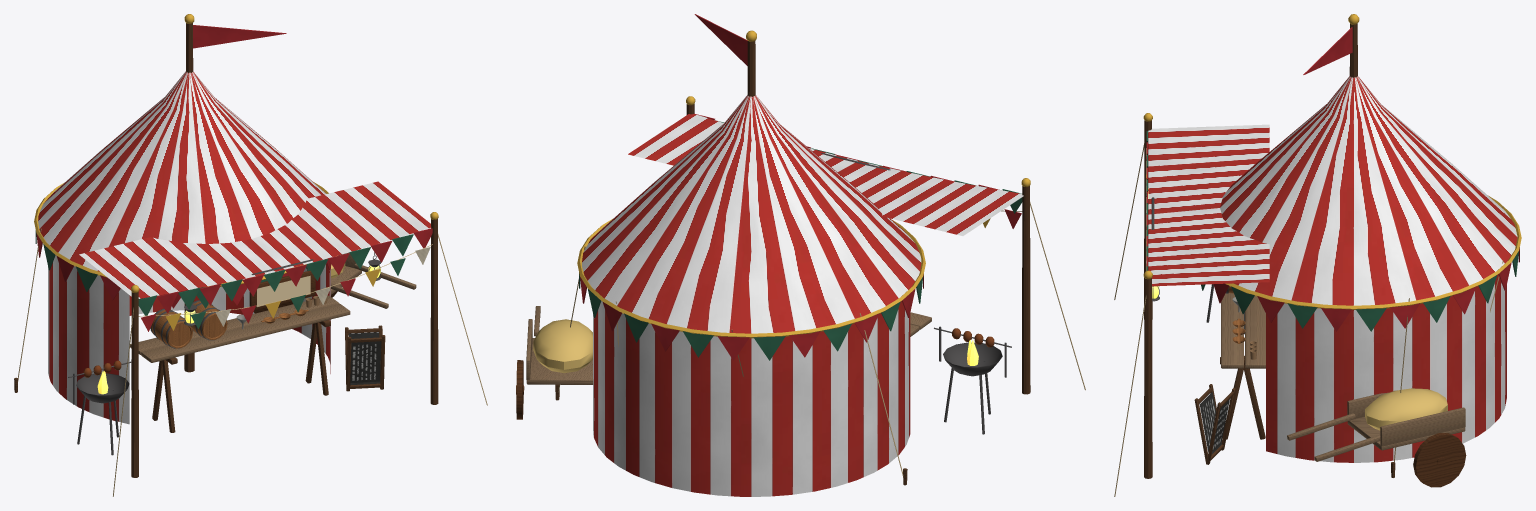
The model's file is tavern-tent.glb.
The picture shows the model from 3 angles, left to right: view 1: azimuth 30°, elevation 25°; view 2: azimuth 150°, elevation 25°; view 3: azimuth 270°, elevation 25°; orthographic projection. The views are drawn at different scales.
Parts seen in each view (by area): view 1: tavern_tent, sign_face; view 2: tavern_tent; view 3: tavern_tent.
Boxes of the visible parts, x1,y1,x2,y2 form: tavern_tent: [14, 14, 487, 496]; sign_face: [257, 275, 310, 306]; tavern_tent: [516, 14, 1085, 496]; tavern_tent: [1114, 14, 1521, 496].
Size of the model in its own units: 8.34 by 7.15 by 6.87.
Materials: 20 (10 with a texture image).
